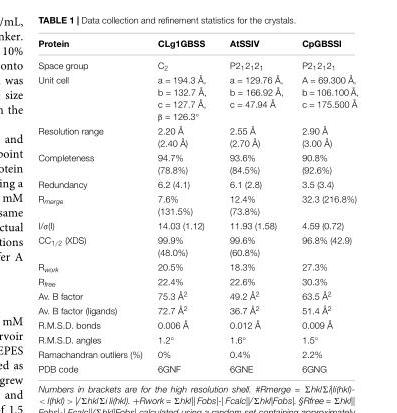table: (37, 37, 358, 373)
table column: (37, 37, 149, 373), (217, 37, 291, 373), (149, 37, 217, 373), (291, 37, 358, 373)
table column header: (37, 37, 358, 53)
table row: (37, 72, 358, 123), (37, 149, 358, 176), (37, 190, 358, 217), (37, 123, 358, 149), (37, 232, 358, 258), (37, 53, 358, 72), (37, 37, 358, 53), (37, 258, 358, 274), (37, 217, 358, 232), (37, 302, 358, 317), (37, 331, 358, 346), (37, 176, 358, 190), (37, 274, 358, 288), (37, 288, 358, 302), (37, 317, 358, 331), (37, 346, 358, 360), (37, 360, 358, 373)
